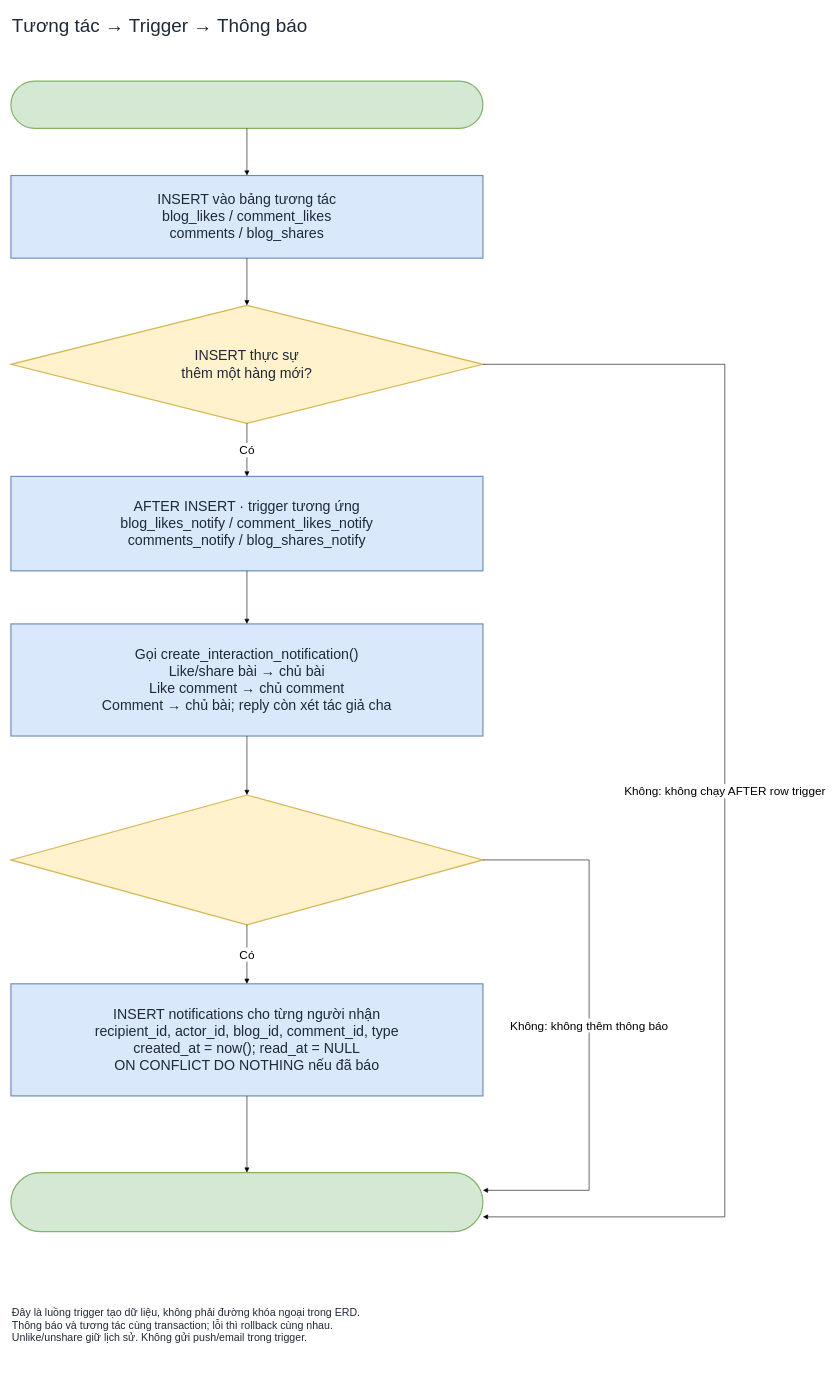
Some shapes in this 835 by 1386 pixel diagram are drawn without their labels. The box of each missing label's shape, as (x1, y1, x2, y2) in pixels:
Bắt đầu thao tác thêm tương tác: (10, 80, 483, 129)
Có người nhận hợp lệ và khác người thao tác?: (10, 794, 483, 925)
Kết thúc luồng thông báo Caller quyết định COMMIT / ROLLBACK: (10, 1172, 483, 1232)
